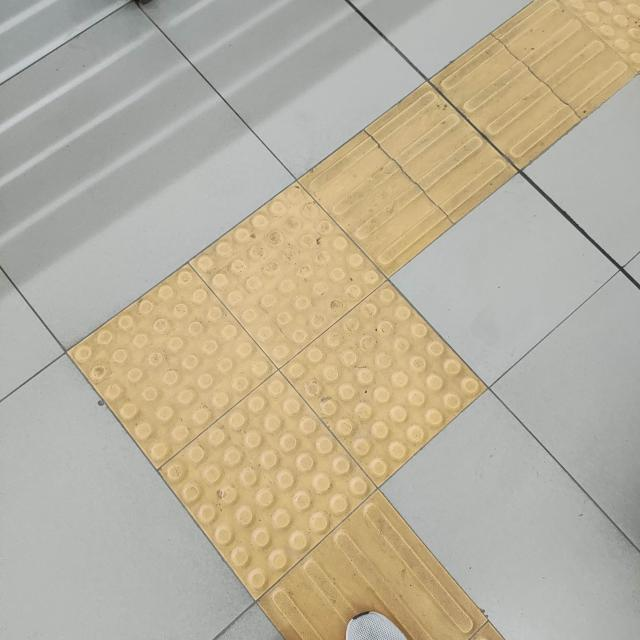kanan: (41, 161, 582, 591)
